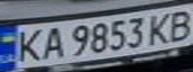3: (124, 15, 151, 48)
5: (106, 17, 130, 52)
8: (87, 19, 112, 54)
9: (66, 21, 90, 57)
A: (36, 24, 69, 61)
B: (163, 7, 193, 42)
K: (9, 26, 48, 63), (145, 10, 175, 45)
